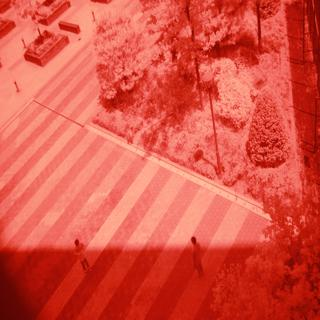person: (185, 230, 214, 282), (69, 232, 97, 282)
